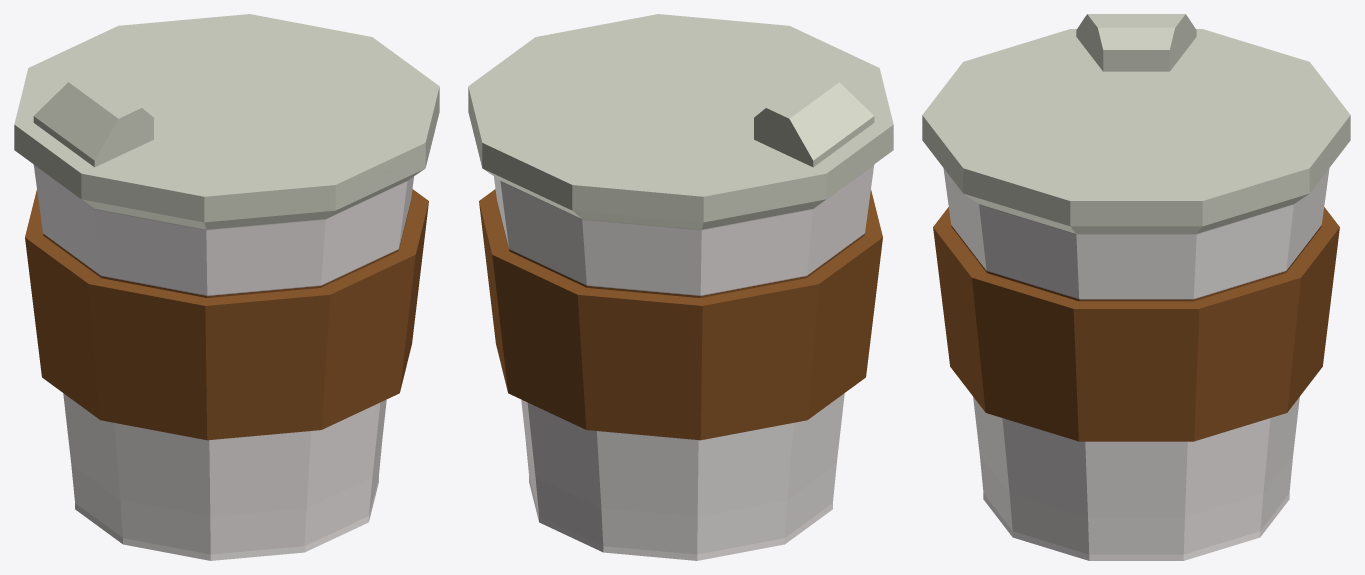
Rendered from CoffeeCup.fbx.
The picture shows the model from 3 angles, left to right: view 1: azimuth 30°, elevation 25°; view 2: azimuth 150°, elevation 25°; view 3: azimuth 270°, elevation 25°; orthographic projection.
Parts seen in each view (by area): view 1: Cylinder; view 2: Cylinder; view 3: Cylinder.
Boxes of the visible parts, box(x1,y1,x2,y2) form: Cylinder: box(14, 14, 439, 560); Cylinder: box(468, 14, 893, 560); Cylinder: box(922, 14, 1350, 560).
Size of the model in its own units: 14.65 by 16.71 by 15.4.
1 material, 1 textured.
